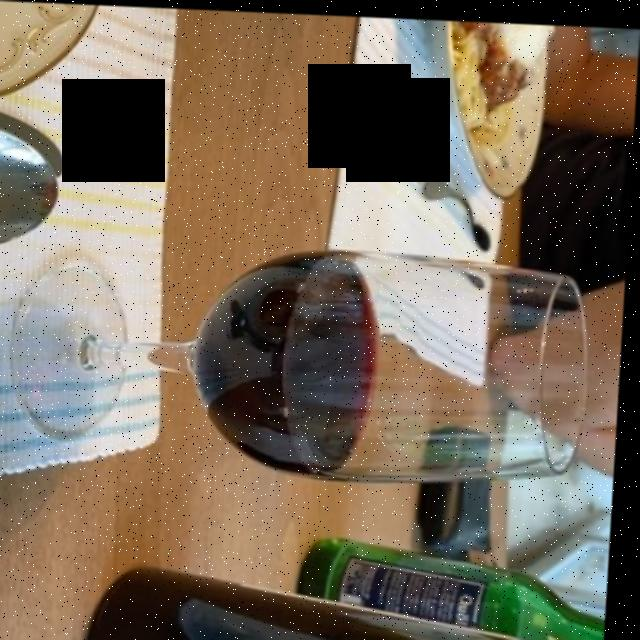wine-red: (200, 254, 380, 460)
